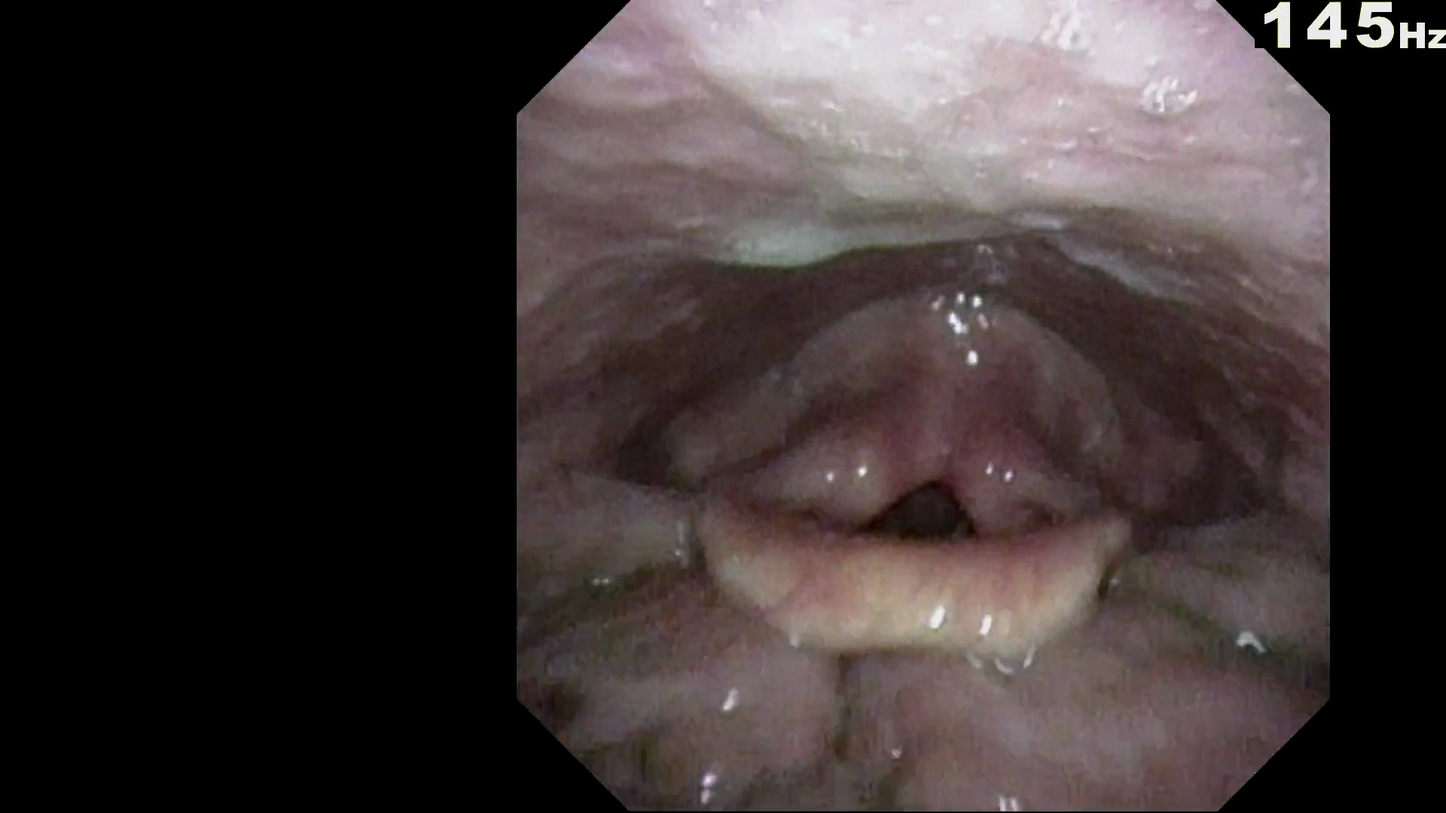epiglottis: (680, 496, 1192, 617)
trachea: (885, 459, 982, 526)
